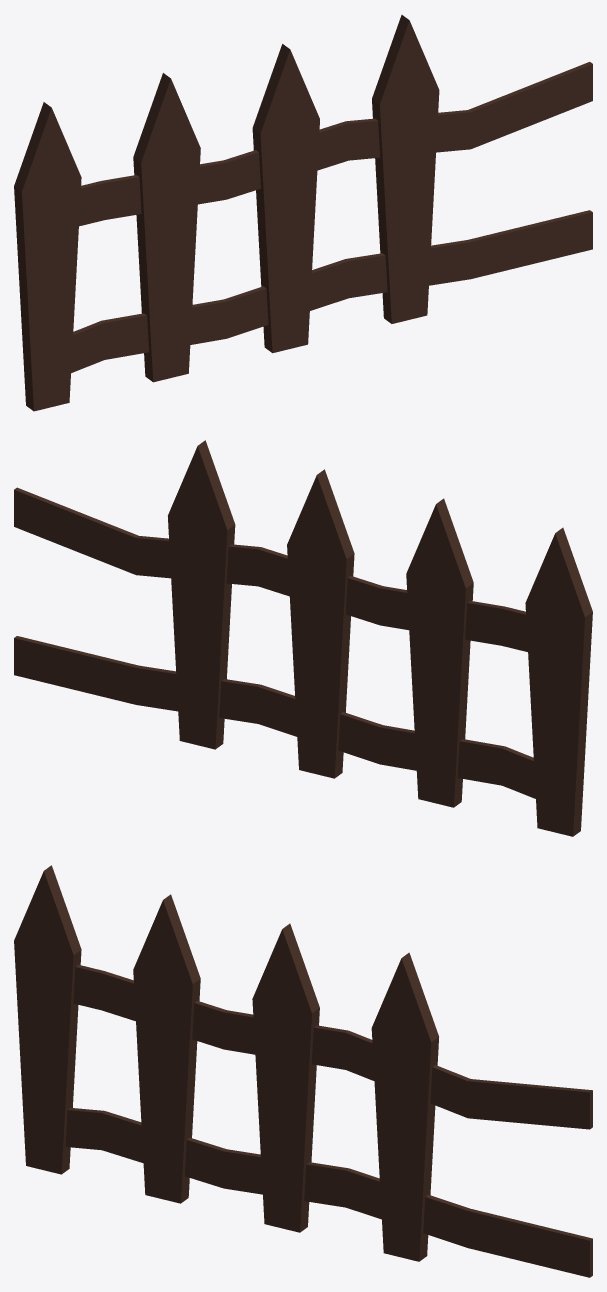
File: CercaMadeiraAbertaDireita.fbx
3 views of the same model, one above another, from view 1: azimuth 30°, elevation 25°; view 2: azimuth 150°, elevation 25°; view 3: azimuth 330°, elevation 25° (orthographic).
Visible parts, largest first — view 1: CercaMadeira02; view 2: CercaMadeira02; view 3: CercaMadeira02.
Boxes of the visible parts, x1,y1,x2,y2 form: CercaMadeira02: [14, 15, 592, 411]; CercaMadeira02: [14, 440, 592, 836]; CercaMadeira02: [14, 865, 592, 1277].
Bounding box in the file's own units: 734 × 366 × 17.59.
